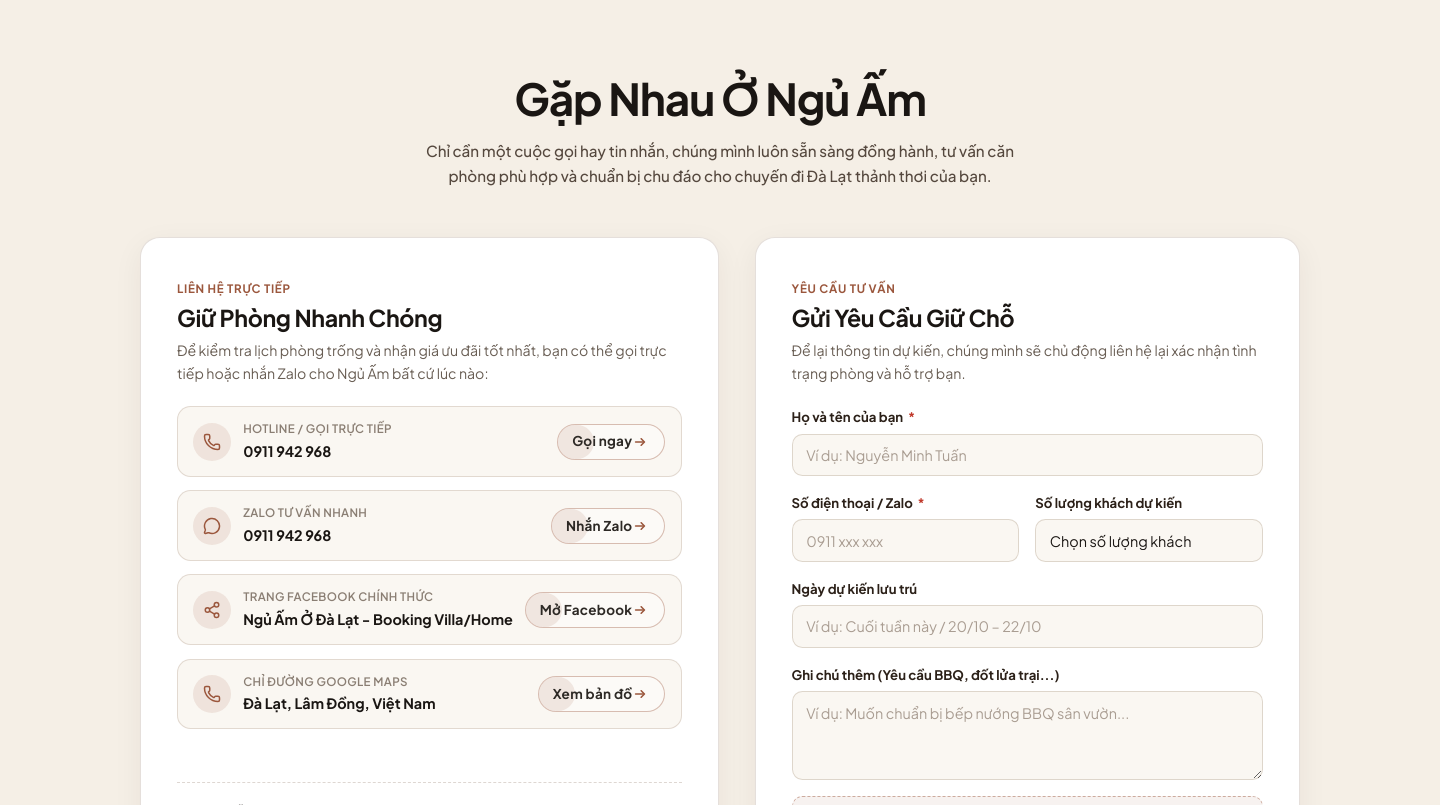
ContactSection › shows demo confirmation banner when valid fields are submitted without sending data
The width and height of the screenshot is (1440, 805).
In the field labelled "Họ và tên của bạn *": (1027, 455) left=792, top=434, right=1263, bottom=476, type "Khách hàng thử nghiệm"
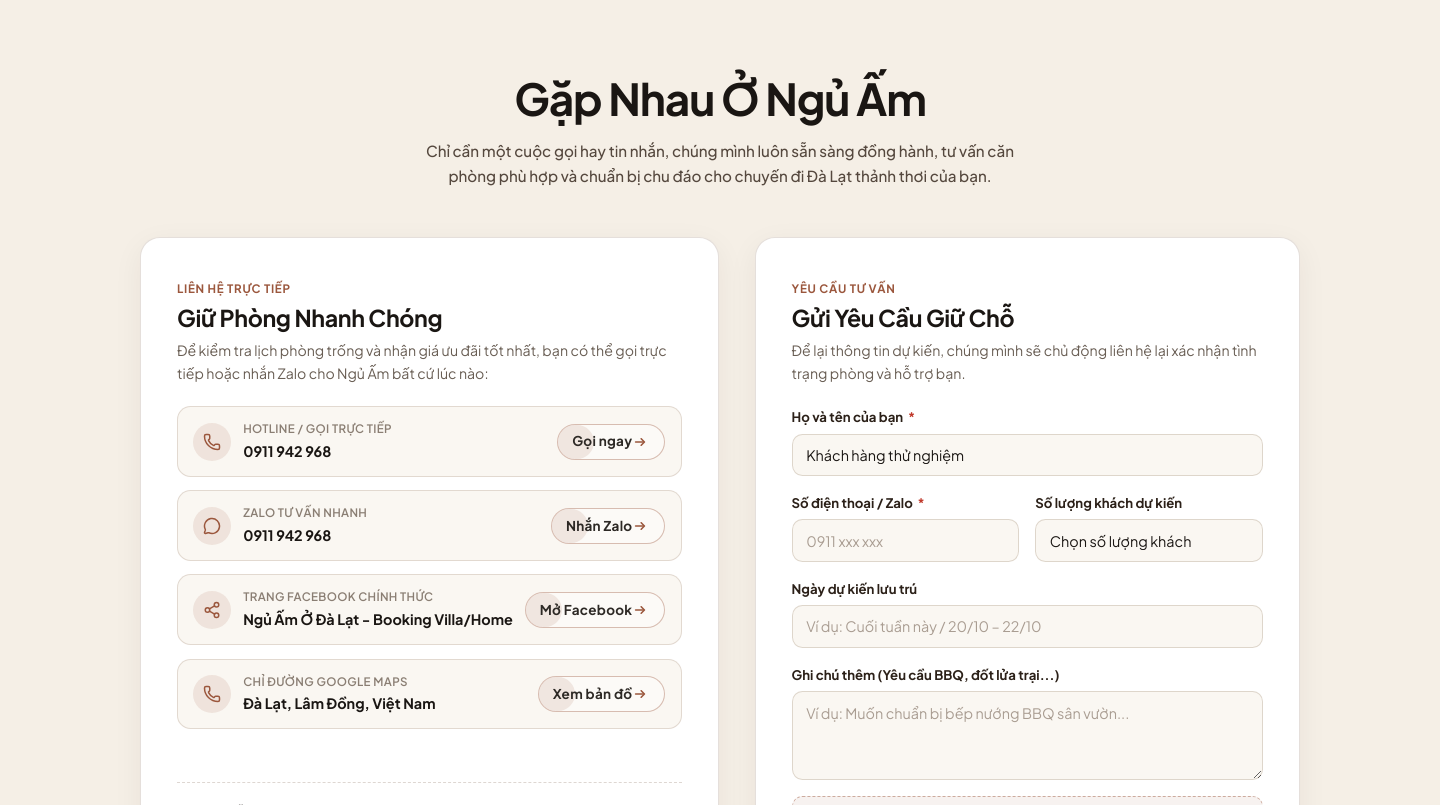
In the field labelled "Số điện thoại / Zalo *": (905, 541) left=792, top=520, right=1019, bottom=562, type "0911942968"
(page scrolled)
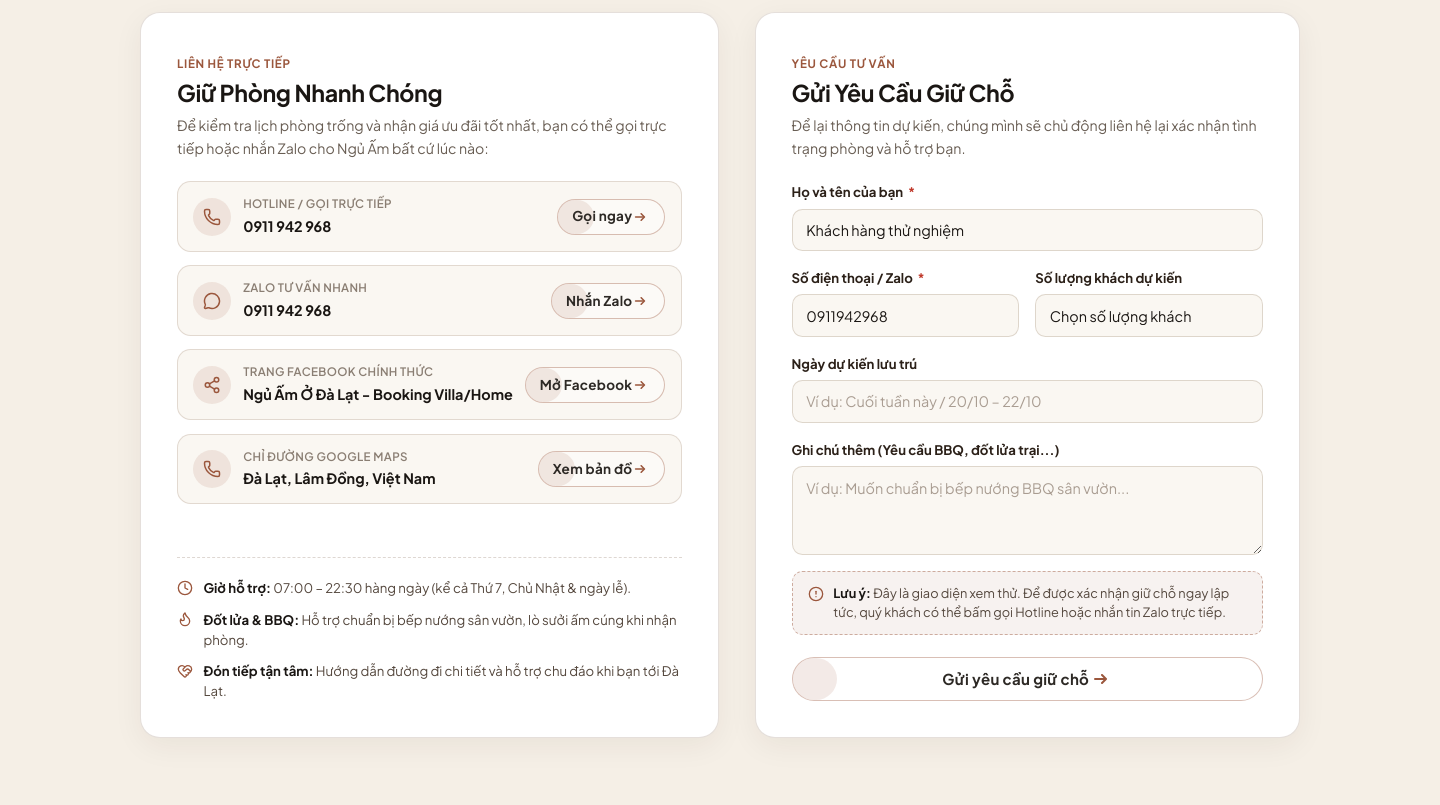
Click the button "Gửi yêu cầu giữ chỗ": (1027, 679) left=792, top=657, right=1263, bottom=701
(page scrolled)
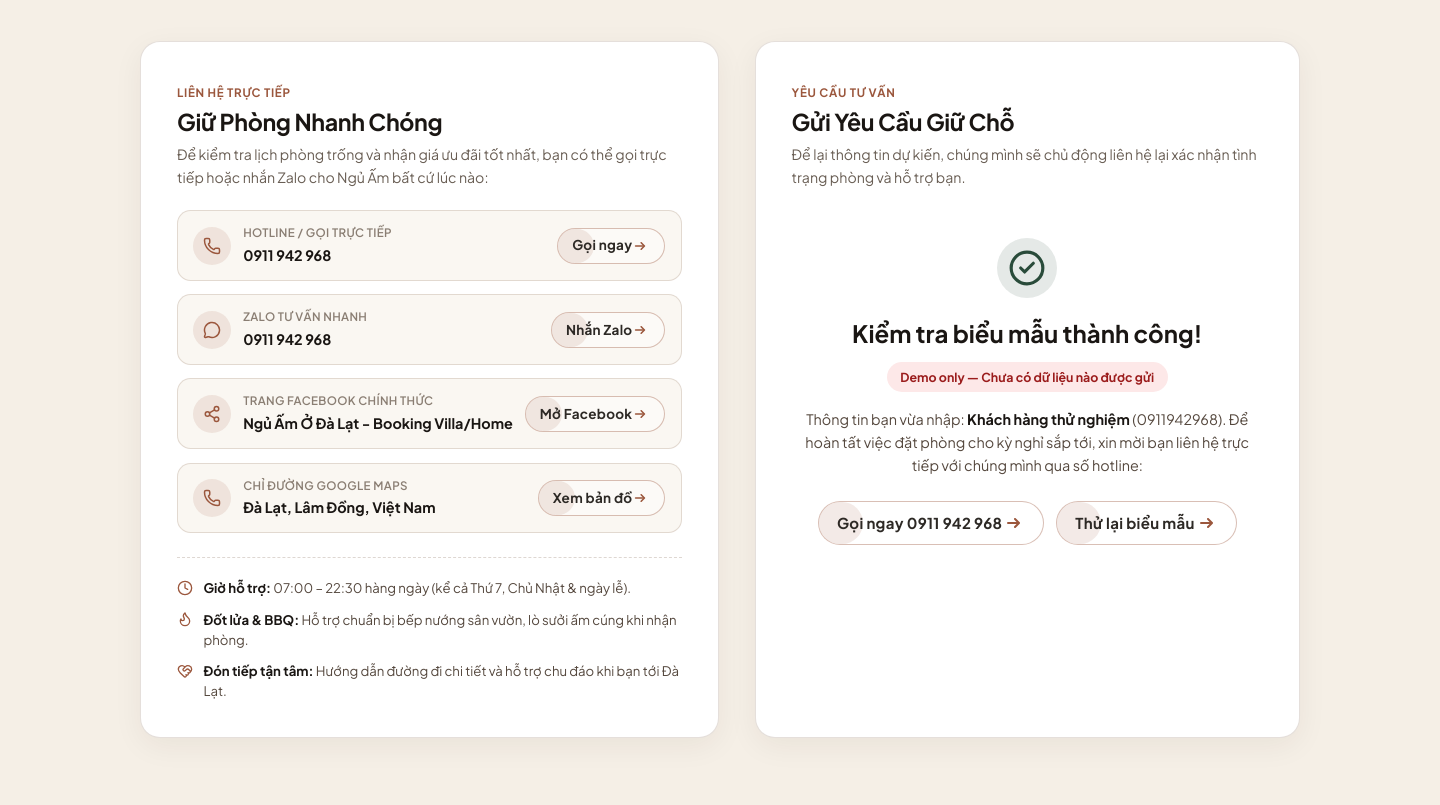
Result: the heading "Kiểm tra biểu mẫu thành công!" is shown at left=852, top=314, right=1202, bottom=354
Result: the text "Demo only — Chưa có dữ liệu nào được gửi" is shown at left=887, top=362, right=1168, bottom=392
